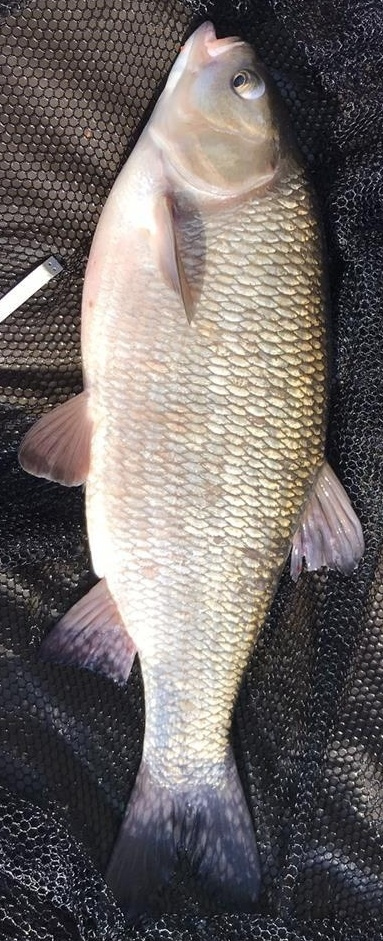Leuciscus idus: (20, 20, 363, 921)
